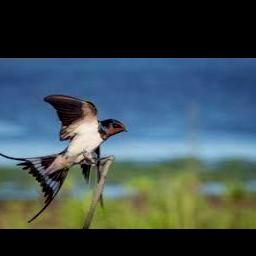Swallow: (0, 95, 126, 225)
